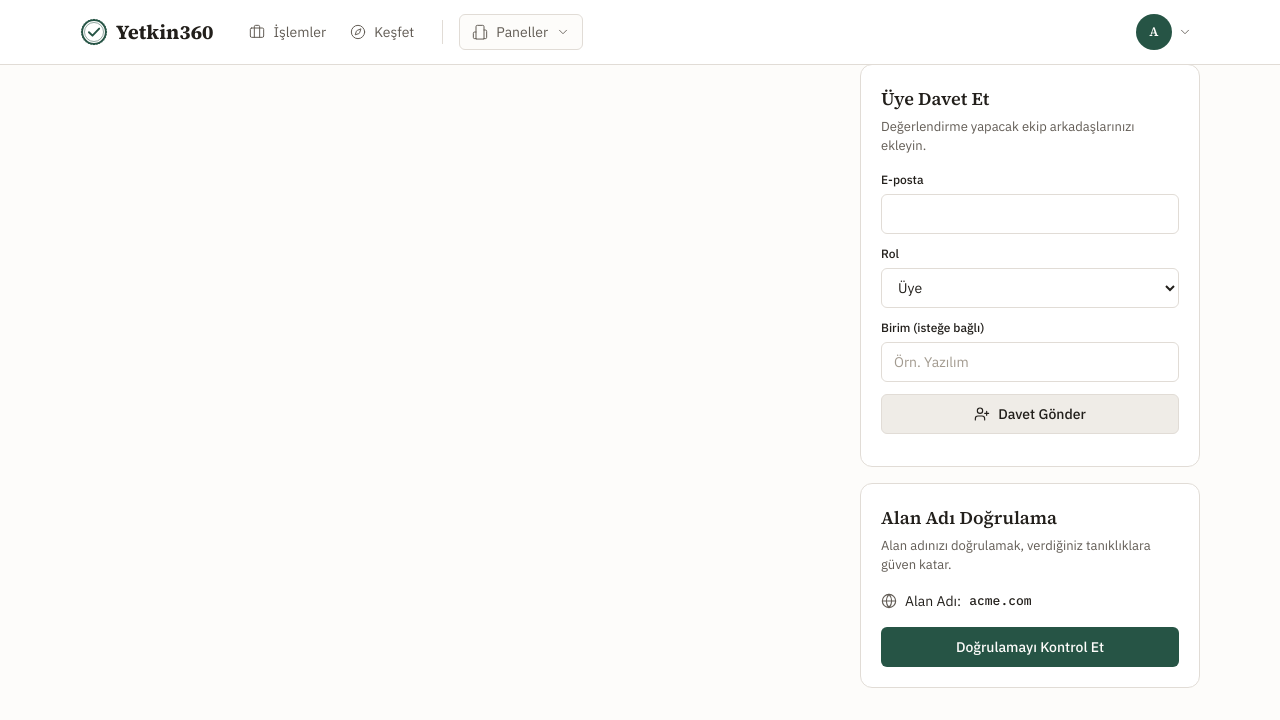
KurulusPanelPage (/kurulus/[id]/panel) › Alan adı doğrulama bölümü › kontrol edince verified dönerse başarı mesajı gösterilir ve organizasyon yeniden çekilir
(page scrolled)
Click the button "Doğrulamayı Kontrol Et" at (1030,646), box x1=881 y1=626 x2=1179 y2=666
(page scrolled)
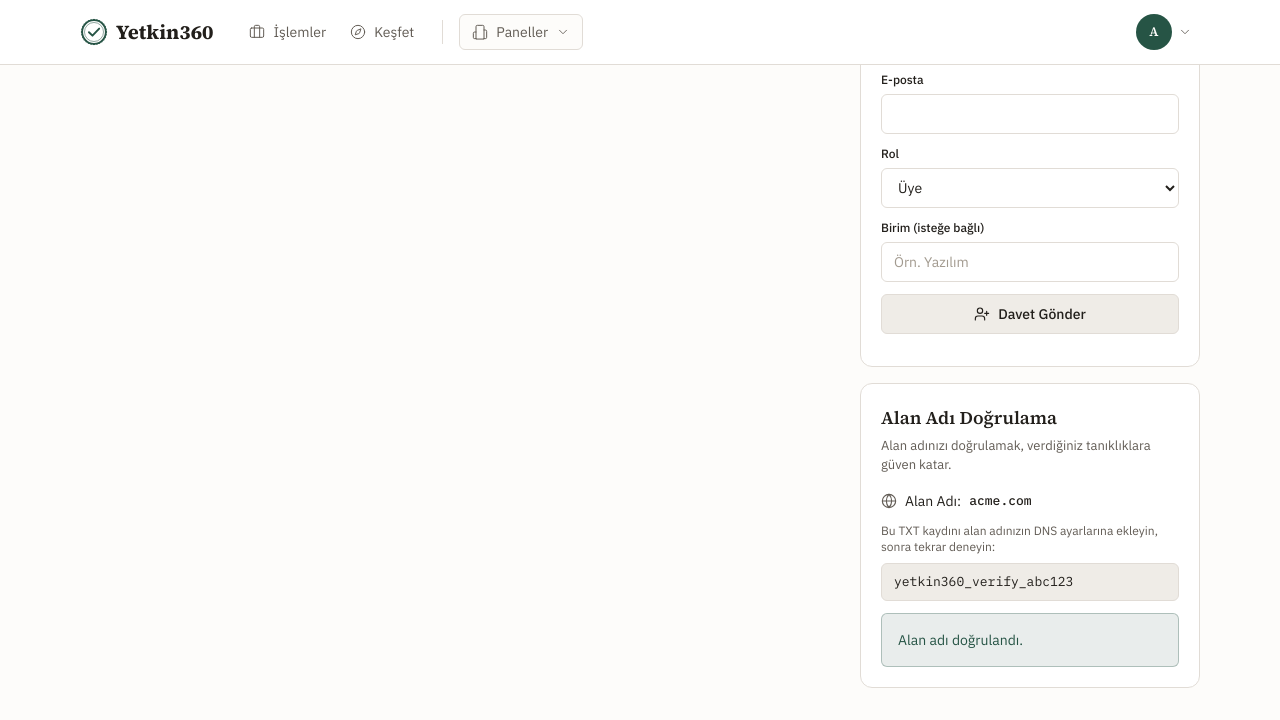
Expected: the text "Alan adı doğrulandı." is shown, x1=881 y1=612 x2=1179 y2=666
